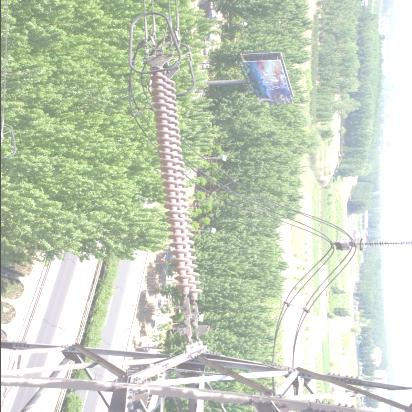insulator: (148, 62, 204, 316)
